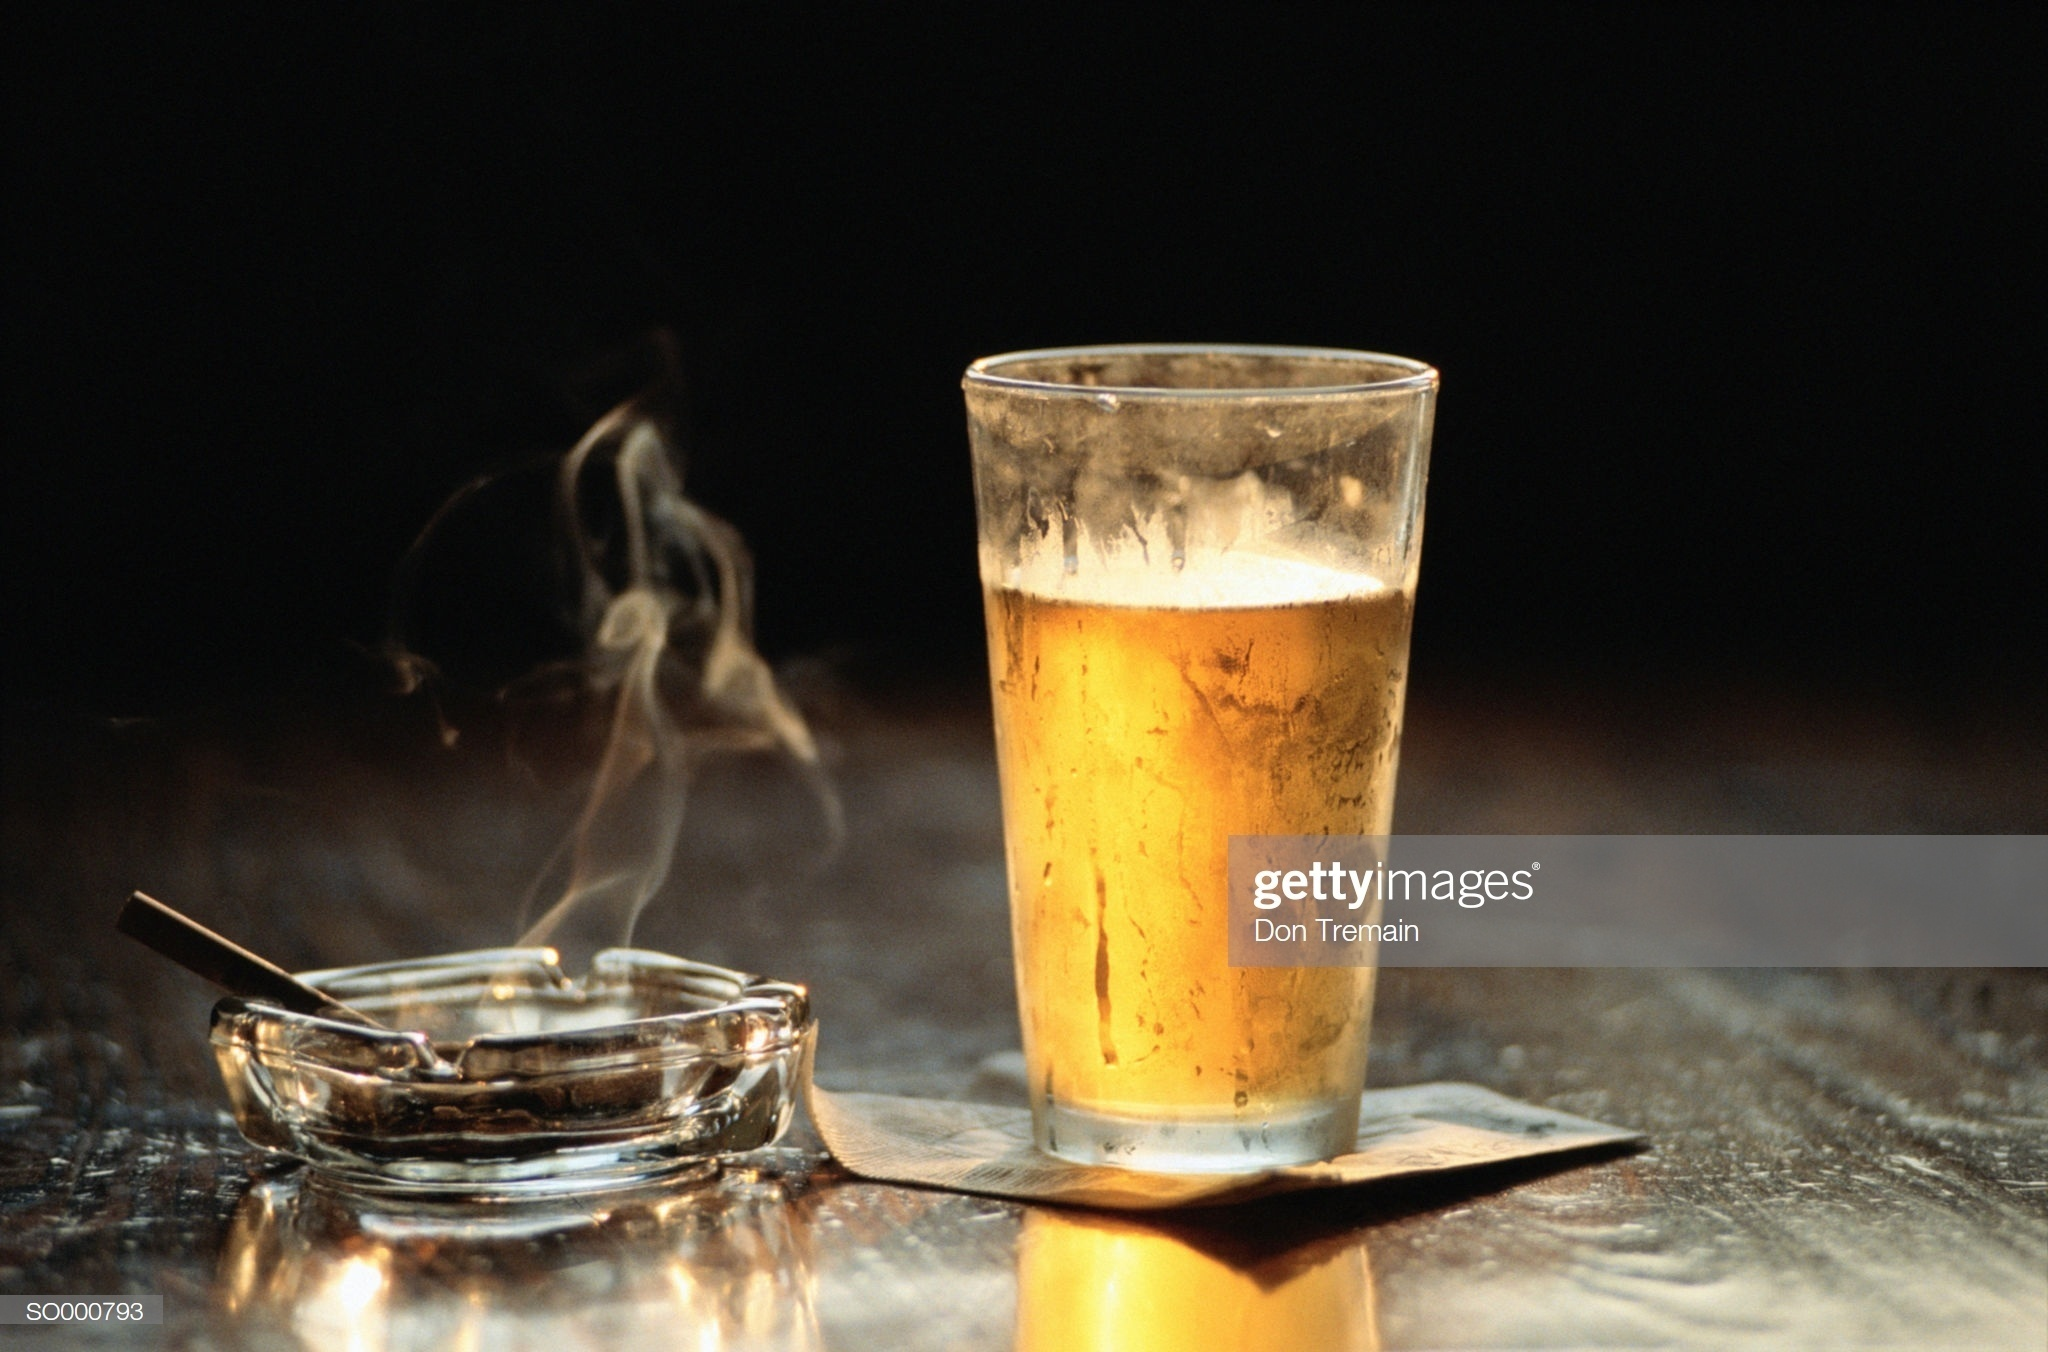whiskey: (995, 344, 1436, 1157)
